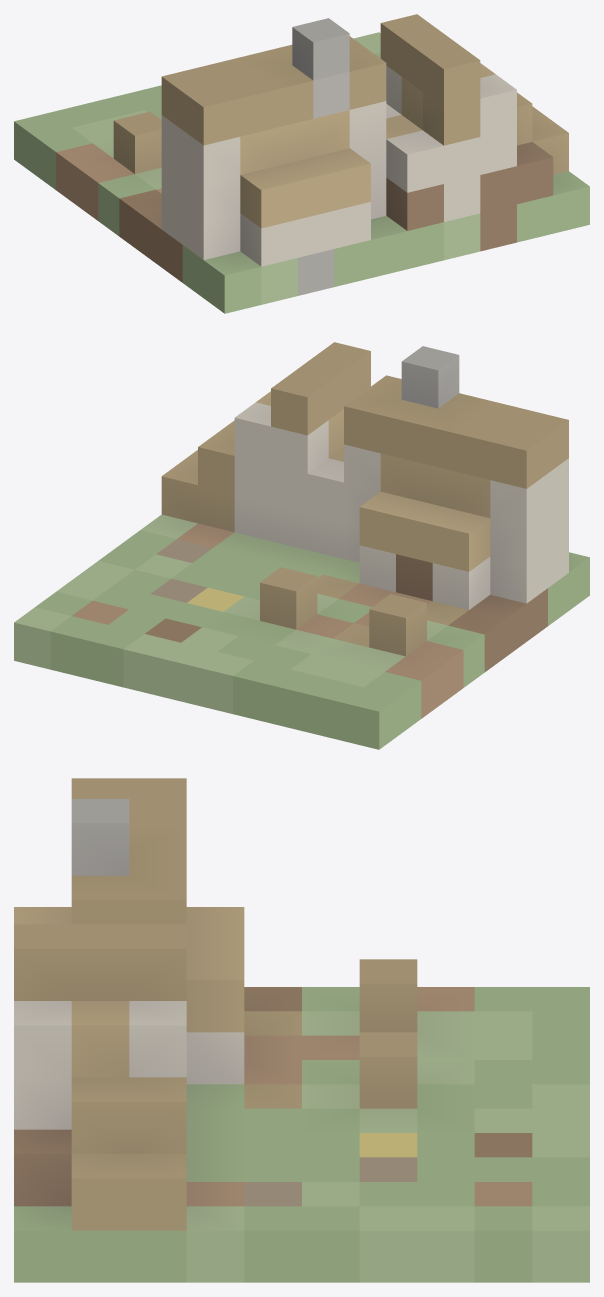
Rendered from apiary.lite.glb.
The picture shows the model from 3 angles, top to bottom: view 1: azimuth 30°, elevation 25°; view 2: azimuth 150°, elevation 25°; view 3: azimuth 270°, elevation 25°; orthographic projection. The views are drawn at different scales.
Parts seen in each view (by area): view 1: apiary; view 2: apiary; view 3: apiary.
Boxes of the visible parts, x1,y1,x2,y2 form: apiary: [14, 14, 589, 313]; apiary: [14, 342, 589, 749]; apiary: [14, 778, 589, 1282].
Size of the model in its own units: 5 by 3 by 5.
